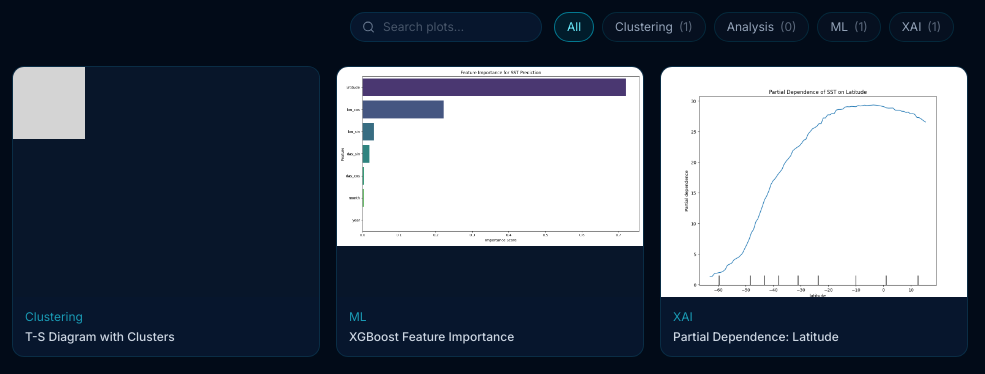
Test: GallerySection › clears search with the × button
This screenshot has width=985, height=374.
Type "Feature" into the search field with placeholder "Search plots…" at (446, 27), box x1=350 y1=12 x2=542 y2=42
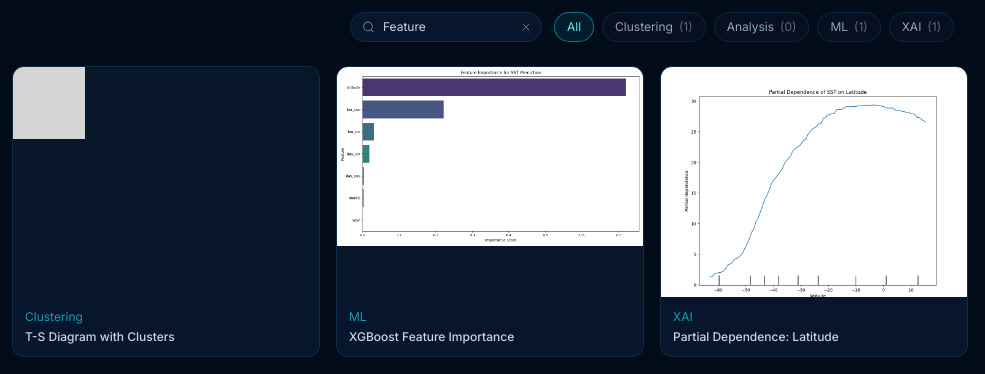
Click the button named "Clear search" at (526, 27), box x1=520 y1=21 x2=532 y2=33
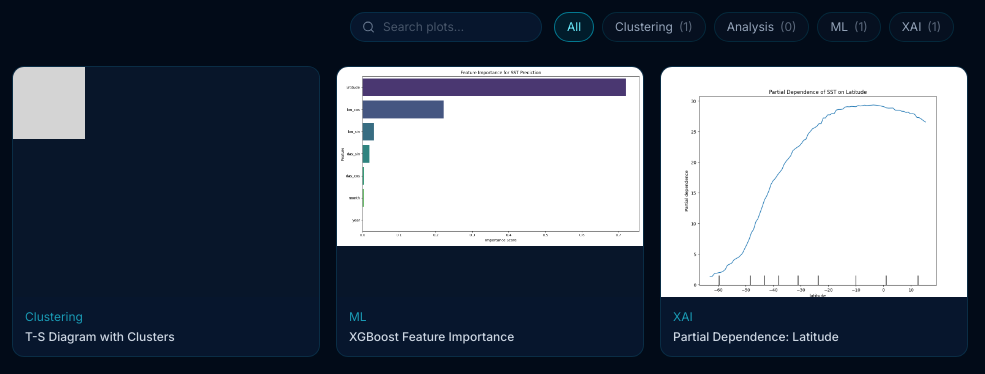
Now the search field with placeholder "Search plots…" is empty, box x1=350 y1=12 x2=542 y2=42
